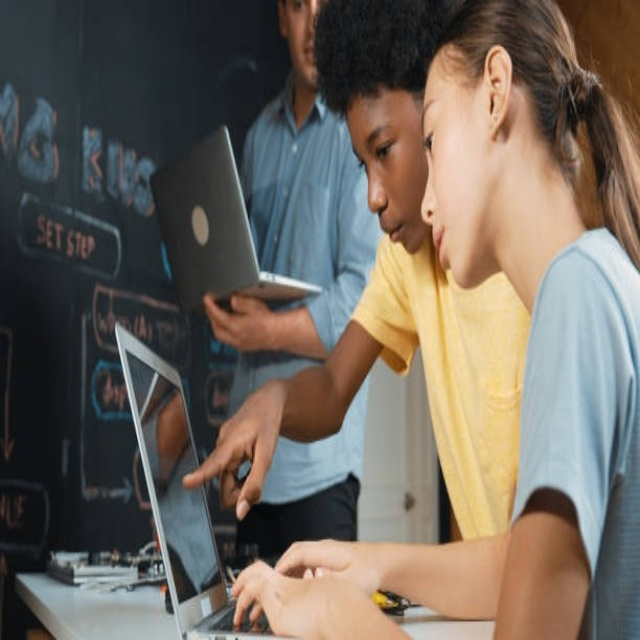Sin_gafas: (352, 102, 408, 180), (419, 100, 470, 171)
Sin_guantes: (181, 383, 282, 519), (236, 556, 397, 640), (201, 290, 270, 357)
Sin_mascara: (425, 218, 467, 283), (376, 207, 413, 251)
